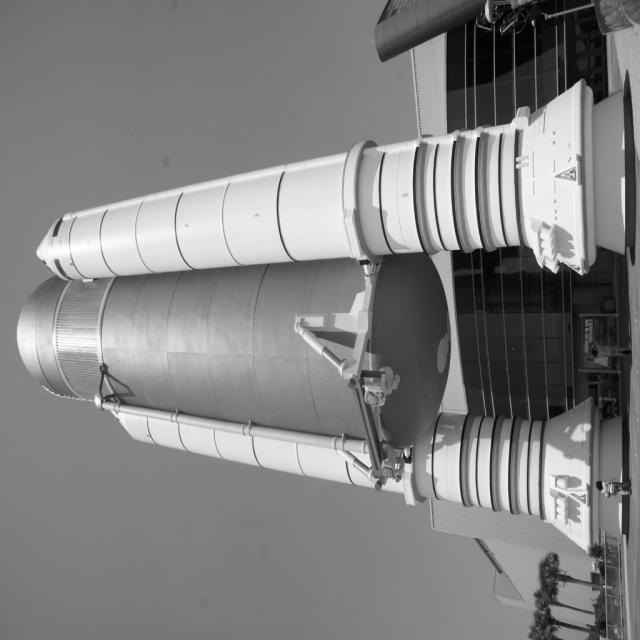missile: (35, 81, 597, 286)
